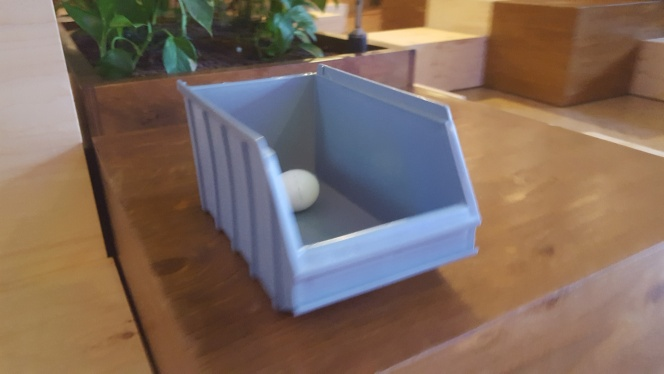egg: (281, 168, 321, 211)
tray_front: (257, 99, 482, 314)
